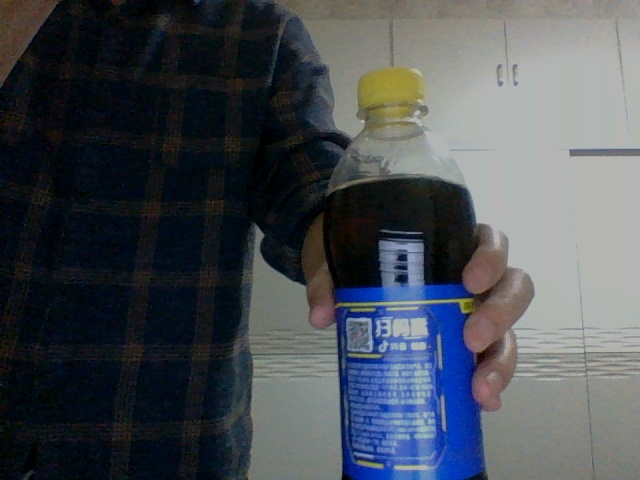Cola: (324, 65, 489, 479)
